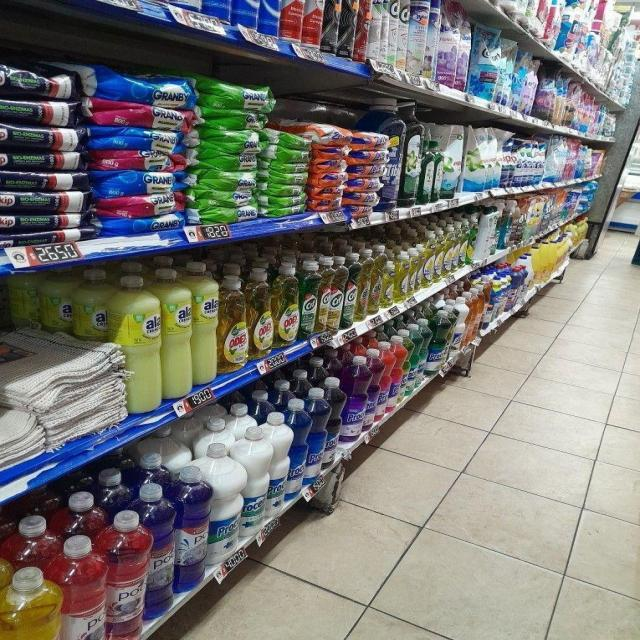ala_conc_amarillo: (369, 248, 381, 314)
ala_crem_amarillo: (114, 272, 161, 413), (162, 262, 192, 400), (192, 263, 218, 388)
cif_conc_bot_amarilla: (319, 256, 343, 332)
cif_conc_botella_verde: (300, 260, 318, 337), (343, 252, 357, 328)
magistral_con_amarillo: (396, 249, 409, 301)
odex: (274, 262, 298, 346)
